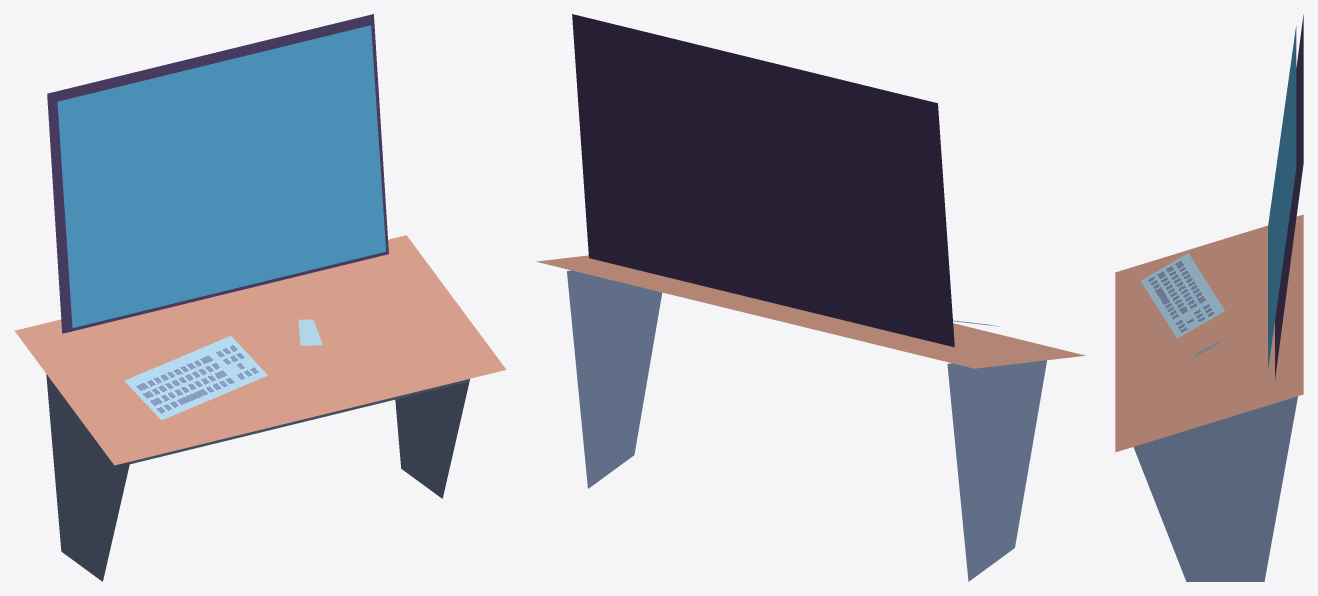
The model's file is computer.gltf.
3 views of the same model, side by side, from view 1: azimuth 30°, elevation 25°; view 2: azimuth 150°, elevation 25°; view 3: azimuth 270°, elevation 25° (orthographic). The views are drawn at different scales.
Parts seen in each view (by area): view 1: computer; view 2: computer; view 3: computer.
Part boxes in pixels (x1,y1,x2,y2): computer: [14, 14, 506, 581]; computer: [536, 14, 1085, 581]; computer: [1115, 14, 1303, 581].
Size of the model in its own units: 1.88 by 2.02 by 0.8281.
Materials: 1 (1 with a texture image).
